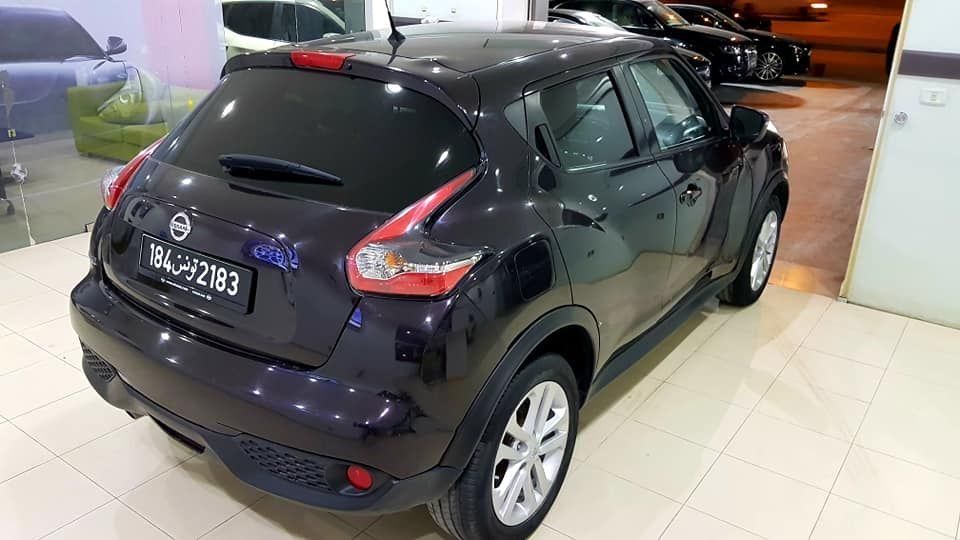LP: (141, 238, 253, 311)
